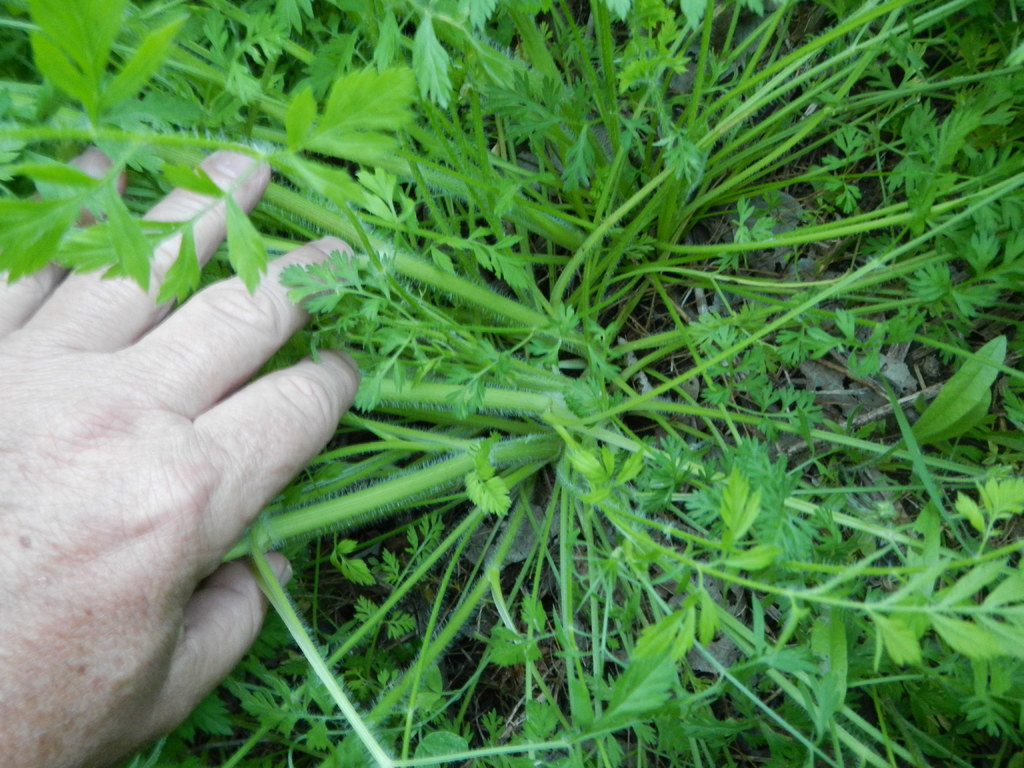Human_hand: (0, 144, 362, 768)
